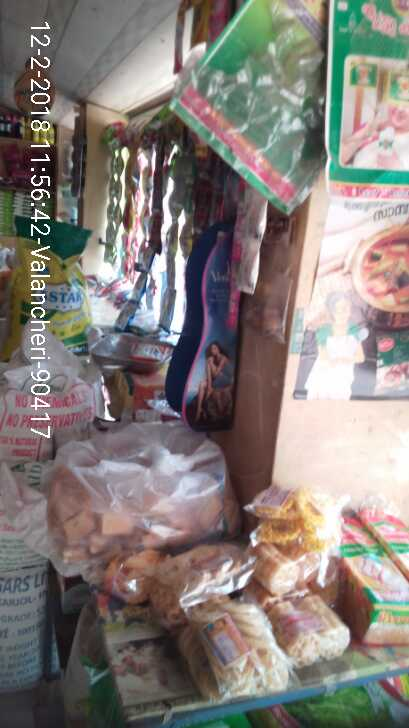reject: (126, 212, 161, 250)
